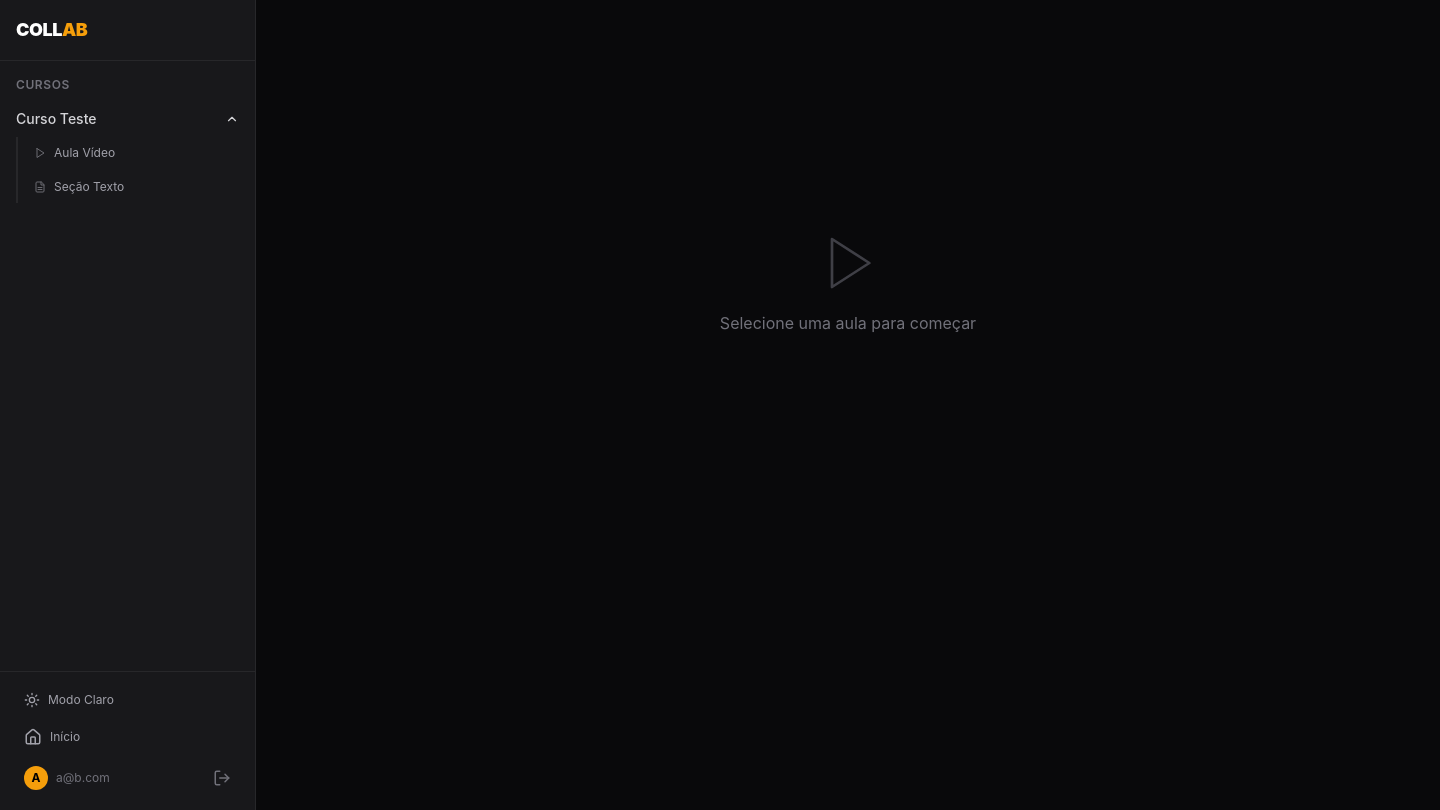
Scenario: ClassPage › loads and displays text/markdown lesson without iframe
Check: the text "Seção Texto" is shown, box [54,179,124,195]
Click the button "Seção Texto" at (136, 187), box [26,171,247,203]
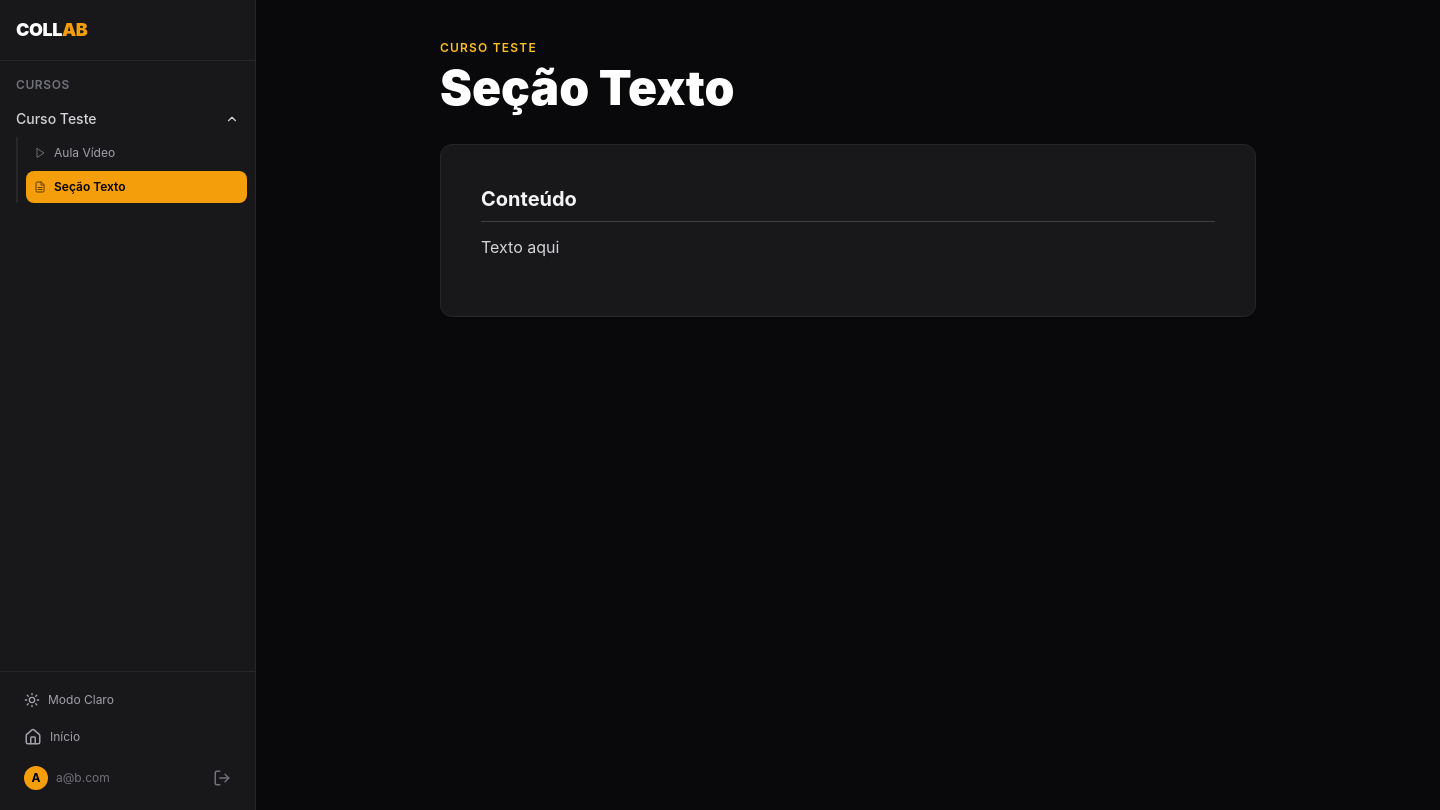
Check: the heading "Seção Texto" is shown, box [440,58,735,117]
Check: the heading "Conteúdo" is shown, box [481,185,1215,222]
